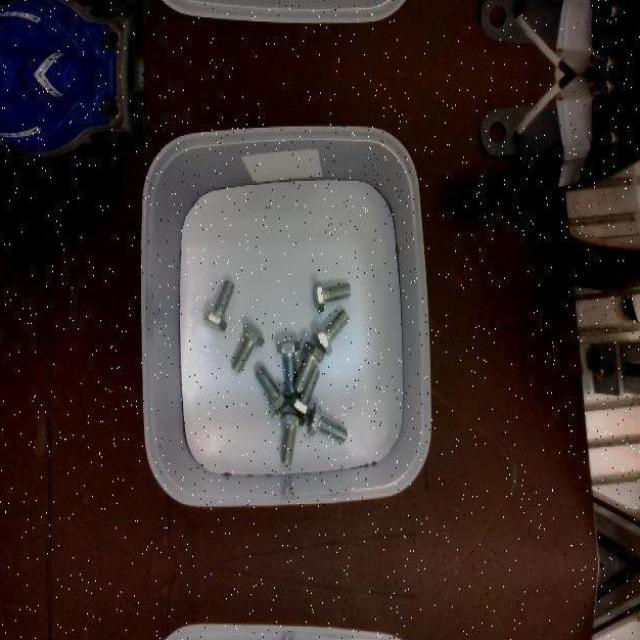screw: (254, 365, 292, 417), (312, 309, 351, 356), (231, 322, 265, 373), (204, 279, 235, 331), (308, 402, 348, 442), (294, 342, 324, 394), (280, 411, 307, 467), (313, 281, 351, 314)
